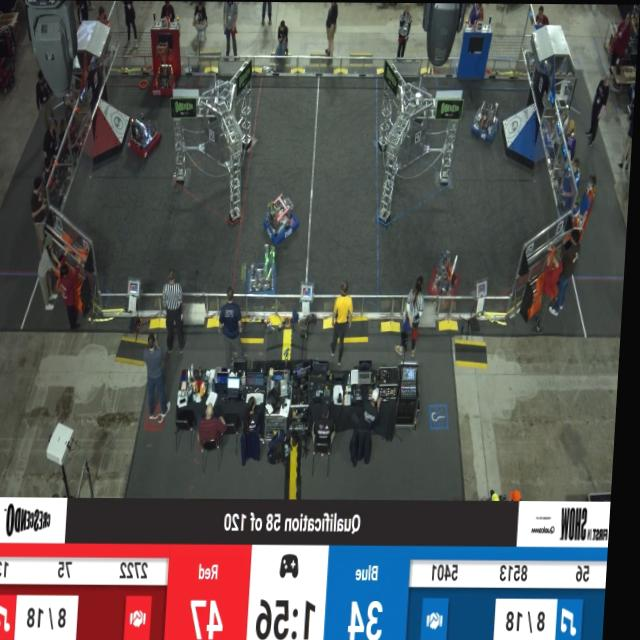Robot: (427, 239, 466, 306), (263, 191, 303, 247), (246, 243, 284, 301), (128, 112, 165, 164), (472, 98, 503, 143), (153, 61, 179, 98)
